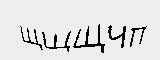П: (127, 25, 149, 48)
Ч: (107, 22, 127, 48)
Щ: (73, 22, 106, 53), (43, 29, 71, 53), (19, 24, 44, 49)
